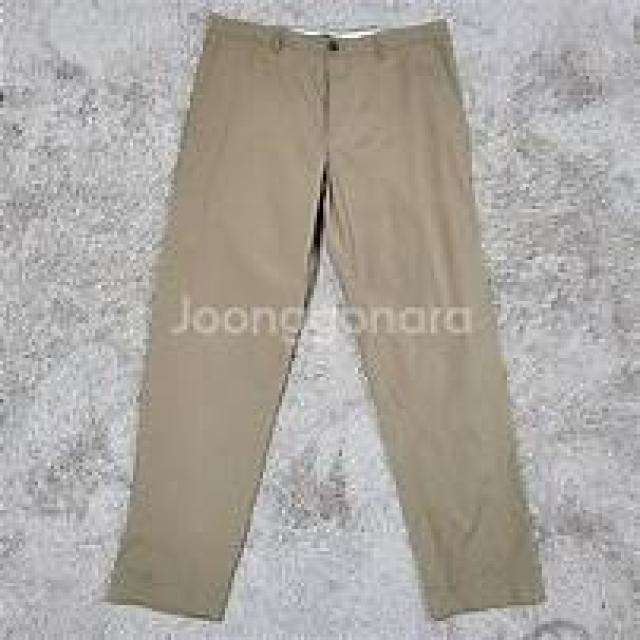long-pants: (99, 11, 552, 622)
